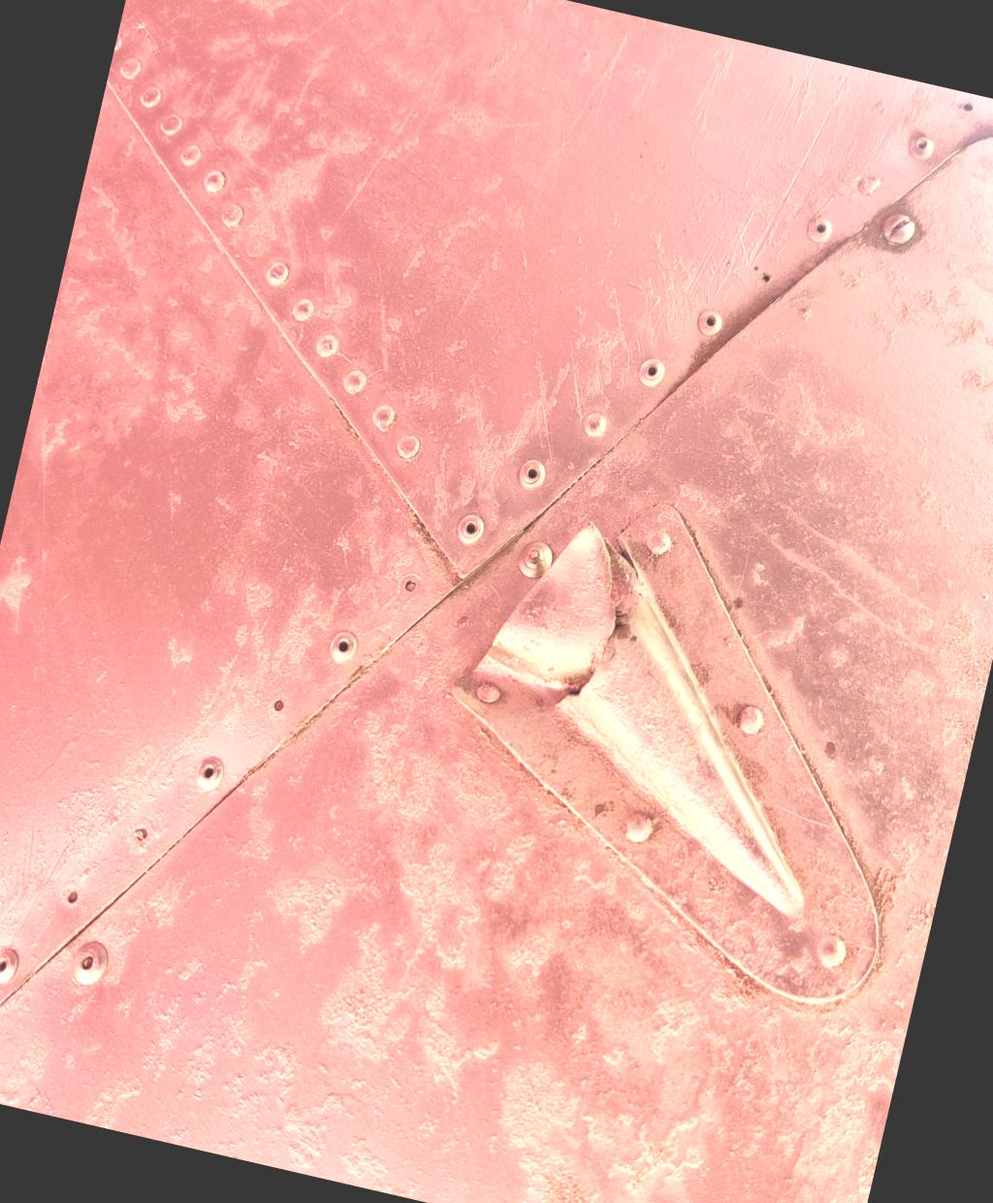crack: (424, 475, 686, 767)
